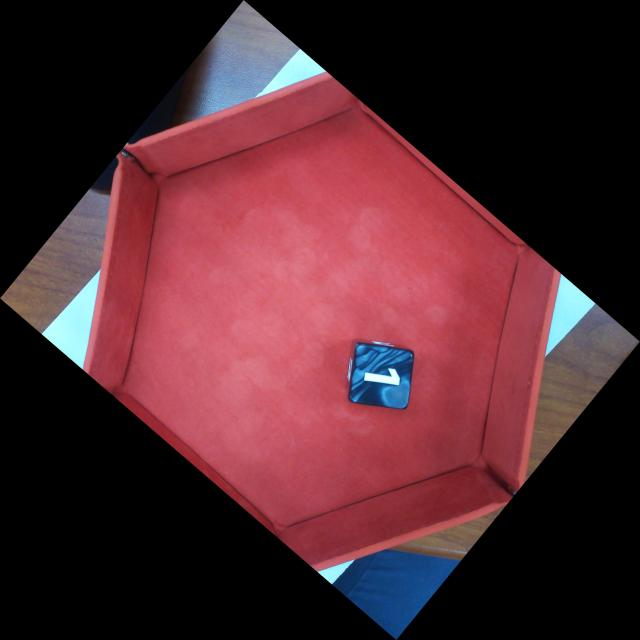dice: (348, 342, 415, 412)
